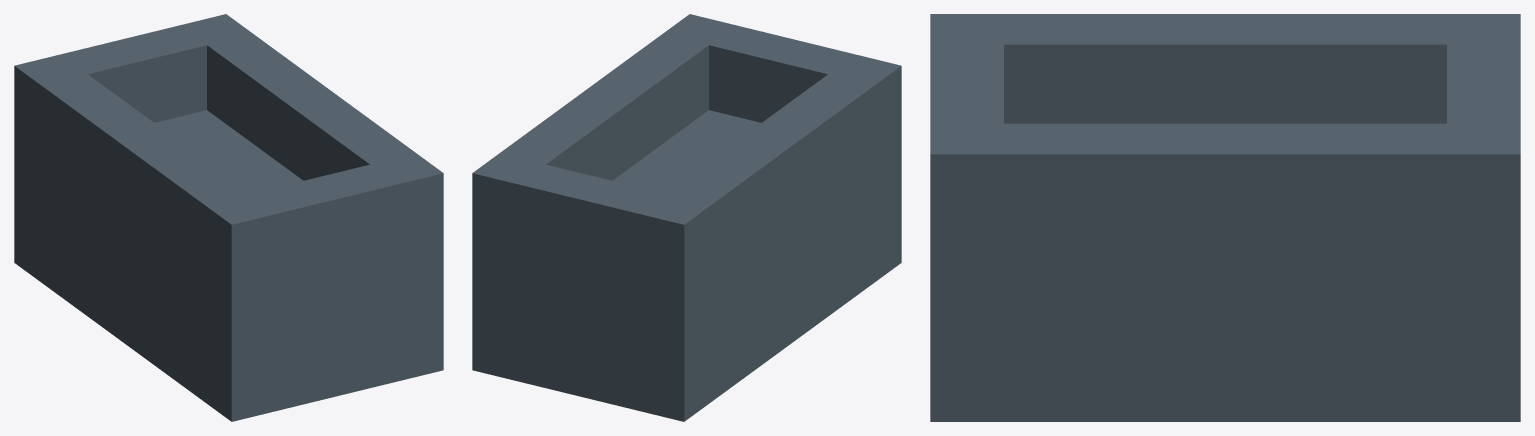
The model's file is Interupteur.glb.
3 renders of one model, left to right at view 1: azimuth 30°, elevation 25°; view 2: azimuth 150°, elevation 25°; view 3: azimuth 270°, elevation 25°, orthographic. The views are drawn at different scales.
Visible parts, largest first — view 1: Cube.006; view 2: Cube.006; view 3: Cube.006.
Part boxes in pixels (box(x1,y1,x2,y2)): Cube.006: box(14, 14, 443, 421); Cube.006: box(472, 14, 901, 421); Cube.006: box(930, 14, 1520, 421).
Bounding box in the file's own units: 0.1687 × 0.15 × 0.3.
